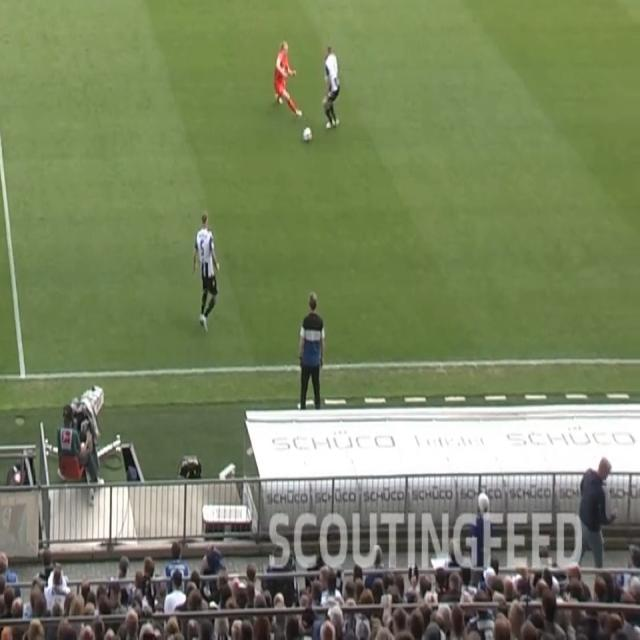ball: (302, 125, 313, 144)
